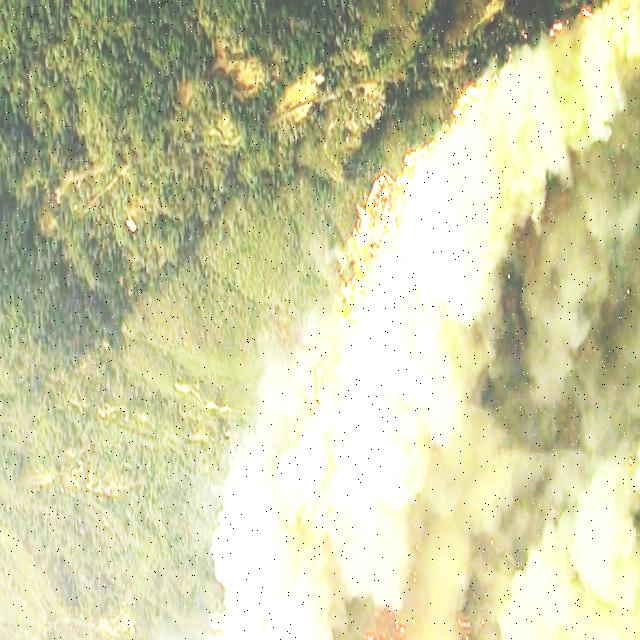api: (345, 193, 378, 273), (453, 79, 485, 135), (393, 144, 421, 194), (336, 278, 360, 334), (311, 360, 327, 403)
asap: (209, 1, 640, 640)
